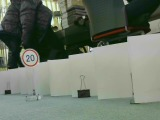speed_20: (20, 48, 39, 68)
